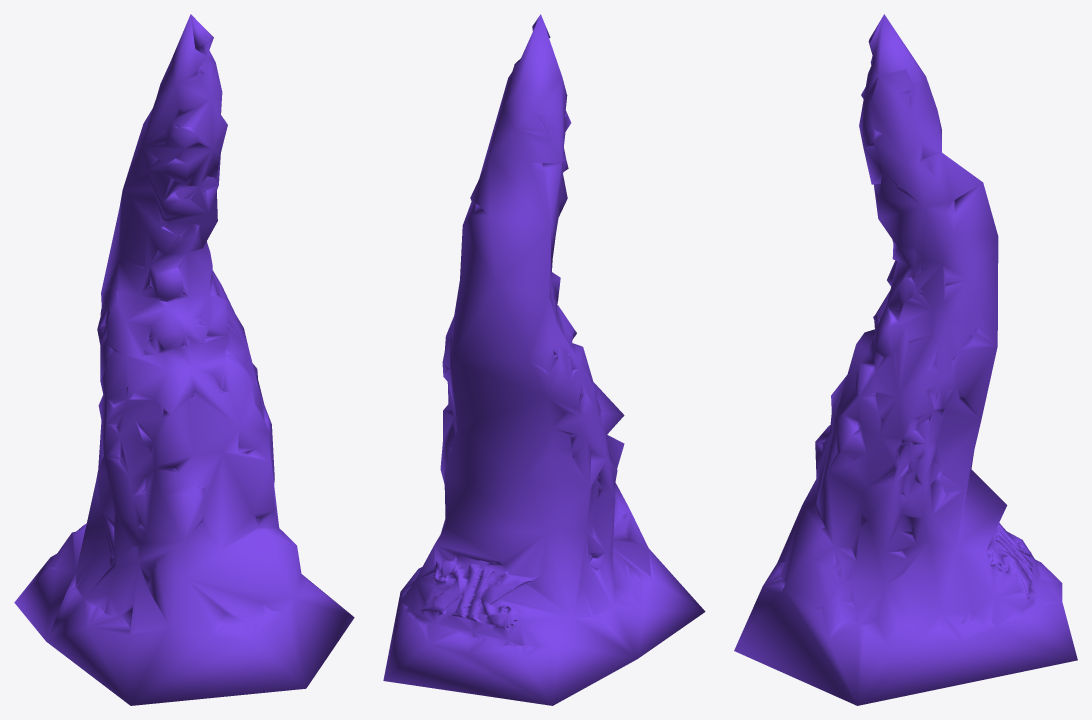
Rendered from xsmall-flat-ar.glb.
3 renders of one model, left to right at view 1: azimuth 30°, elevation 25°; view 2: azimuth 150°, elevation 25°; view 3: azimuth 270°, elevation 25°, orthographic. The views are drawn at different scales.
Size of the model in its own units: 0.0914 by 0.2022 by 0.1017.
